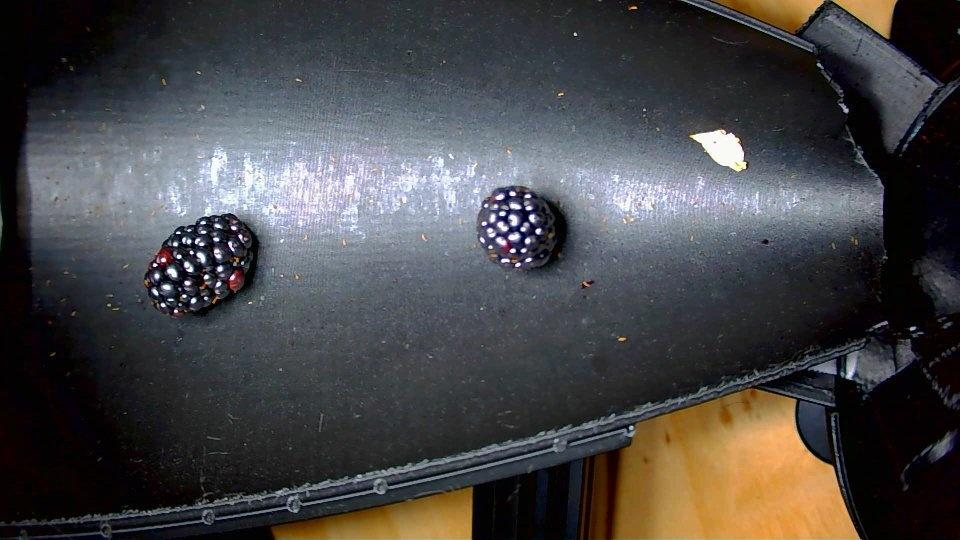berry: (144, 214, 255, 316), (477, 186, 558, 267)
